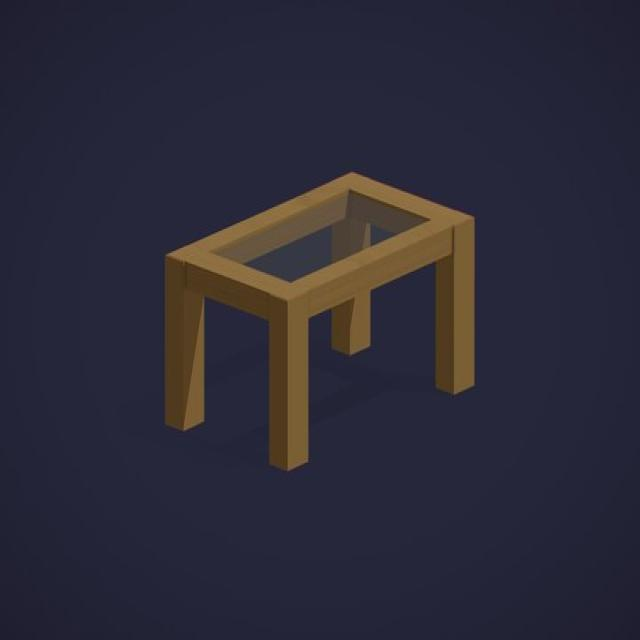table: (166, 170, 477, 474)
